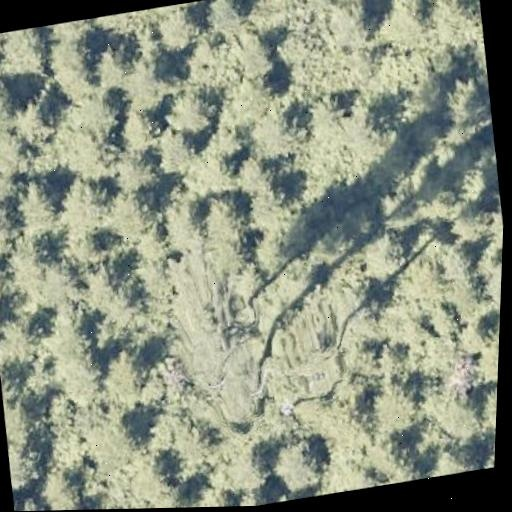tree-top: (89, 342, 157, 412), (49, 170, 113, 241), (23, 257, 95, 319), (211, 71, 278, 136), (151, 78, 219, 142), (61, 123, 124, 190), (173, 143, 238, 206), (64, 83, 127, 147), (102, 145, 166, 207), (99, 179, 166, 237), (294, 88, 353, 150), (119, 49, 176, 112), (46, 30, 102, 94), (151, 114, 206, 179), (360, 381, 418, 441), (5, 93, 63, 150), (428, 235, 485, 292), (344, 86, 400, 144), (222, 442, 279, 498), (274, 428, 323, 492), (320, 0, 374, 57), (196, 192, 247, 252), (0, 378, 46, 444), (11, 179, 66, 234), (34, 463, 97, 511), (380, 0, 436, 54), (440, 76, 494, 131), (156, 3, 211, 56), (50, 302, 103, 357), (225, 148, 277, 203), (128, 451, 181, 503), (0, 318, 48, 375), (243, 230, 297, 280), (93, 420, 142, 474), (233, 31, 278, 86), (5, 433, 46, 491), (424, 440, 486, 478), (361, 229, 408, 276), (0, 67, 31, 138), (337, 279, 386, 323), (464, 384, 497, 435), (204, 0, 256, 32), (469, 334, 499, 387), (476, 258, 502, 315), (143, 485, 195, 508), (0, 266, 18, 328), (0, 190, 14, 262), (262, 489, 303, 504)
